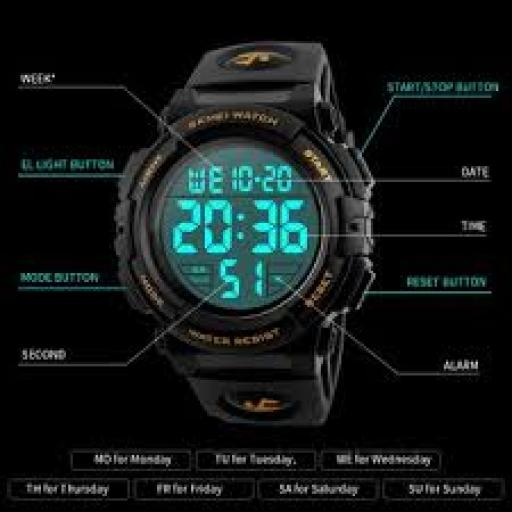KolSaati: (93, 35, 394, 430)
